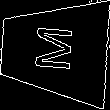M_W: (31, 26, 77, 76)
